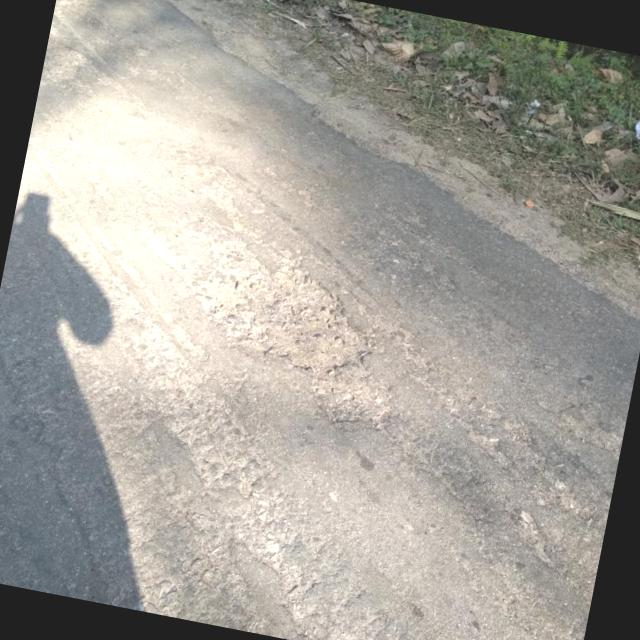Lubang: (198, 240, 368, 377), (313, 368, 391, 429)
